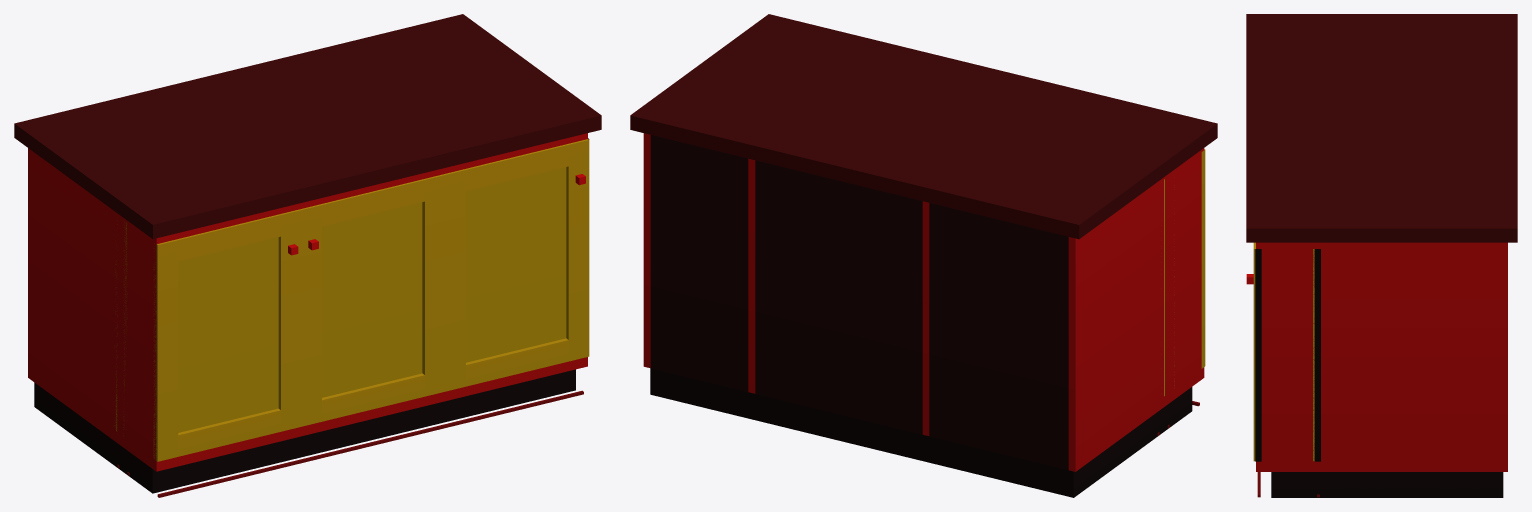
The model's file is stand_shaker.glb.
3 views of the same model, side by side, from view 1: azimuth 30°, elevation 25°; view 2: azimuth 150°, elevation 25°; view 3: azimuth 270°, elevation 25° (orthographic). The views are drawn at different scales.
Parts seen in each view (by area): view 1: display_120, long_reef_60, rimless_40, nano_cube_20; view 2: display_120, rimless_40, nano_cube_20, long_reef_60; view 3: display_120, long_reef_60, rimless_40, nano_cube_20.
Boxes of the visible parts, x1,y1,x2,y2 form: display_120: (14, 14, 601, 497); long_reef_60: (14, 14, 570, 475); rimless_40: (14, 39, 439, 475); nano_cube_20: (15, 82, 230, 468); display_120: (630, 14, 1217, 497); rimless_40: (735, 62, 1186, 497); nano_cube_20: (909, 121, 1176, 496); long_reef_60: (631, 36, 1187, 496); display_120: (1246, 14, 1517, 497); long_reef_60: (1305, 14, 1517, 497); rimless_40: (1305, 14, 1517, 178); nano_cube_20: (1325, 14, 1517, 95).
Size of the model in its own units: 131 by 78.39 by 70.
